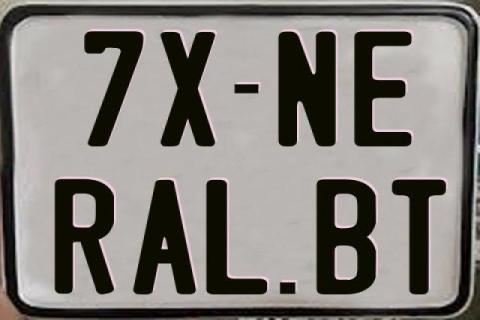0: (81, 31, 145, 148)
A: (130, 180, 200, 294)
B: (314, 177, 374, 293)
E: (354, 31, 417, 151)
L: (206, 179, 272, 293)
N: (278, 32, 342, 150)
R: (53, 178, 112, 298)
T: (389, 178, 443, 296)
X: (158, 32, 218, 150)
